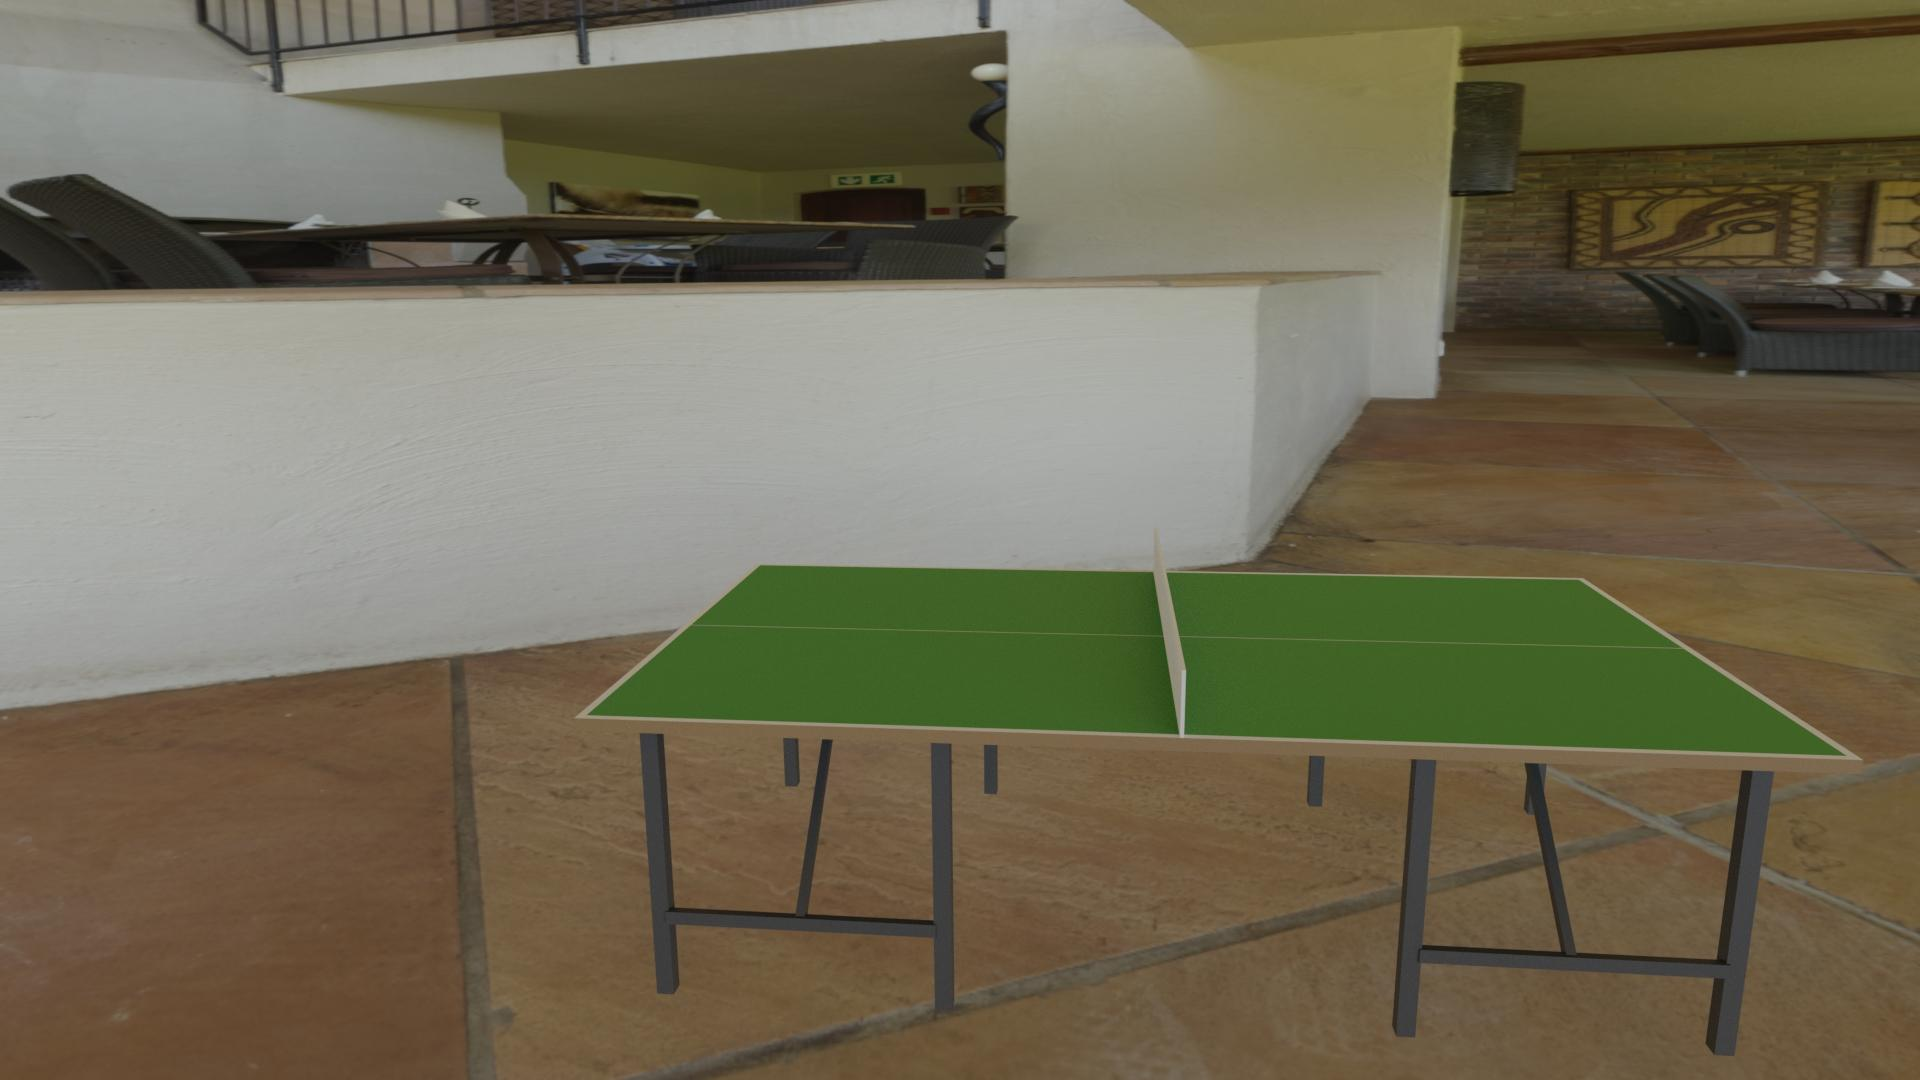table: (587, 566, 1847, 756)
